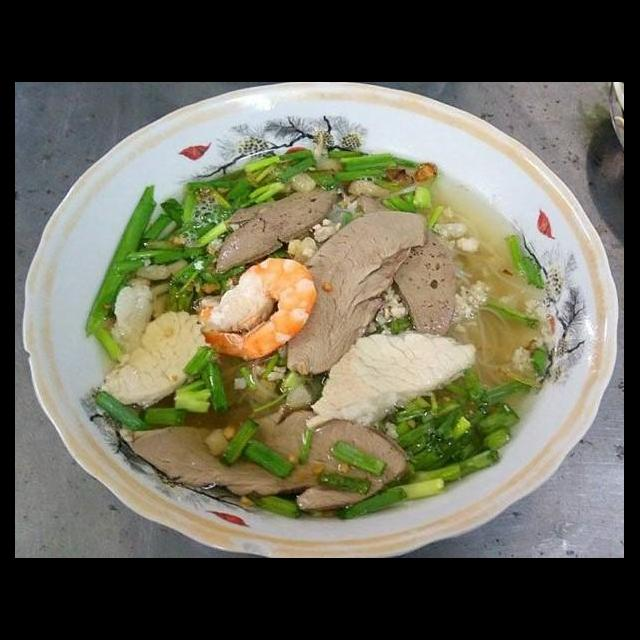gan: (358, 186, 460, 345), (208, 170, 349, 278)
hu tieu: (442, 162, 562, 414)
thit bam: (286, 212, 344, 267), (364, 279, 414, 337)
thit heo: (115, 403, 422, 516), (272, 206, 434, 381), (290, 328, 484, 436), (98, 306, 216, 414)
tom: (182, 248, 324, 365)
